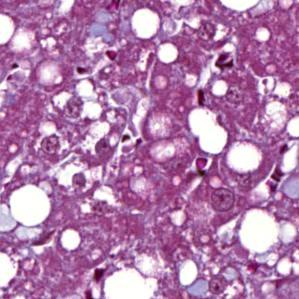steatosis: (9, 183, 53, 229), (130, 4, 162, 41)
